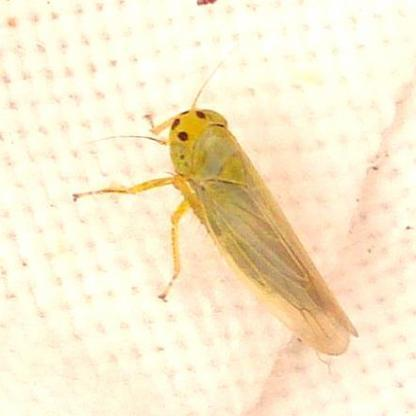green-leafhopper: (149, 106, 354, 358)
